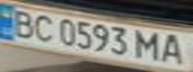0: (54, 16, 78, 47)
3: (109, 25, 133, 57)
5: (72, 19, 93, 51)
9: (90, 21, 112, 54)
A: (157, 32, 190, 65)
B: (6, 8, 39, 38)
C: (27, 12, 57, 43)
M: (133, 28, 163, 61)
